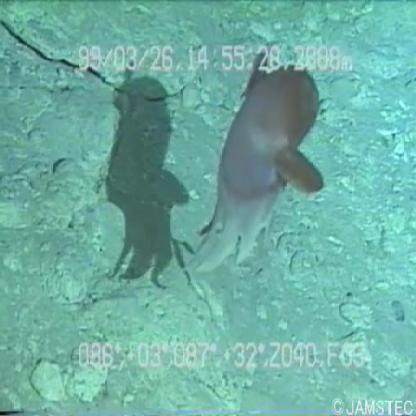Bio: (178, 45, 327, 280)
